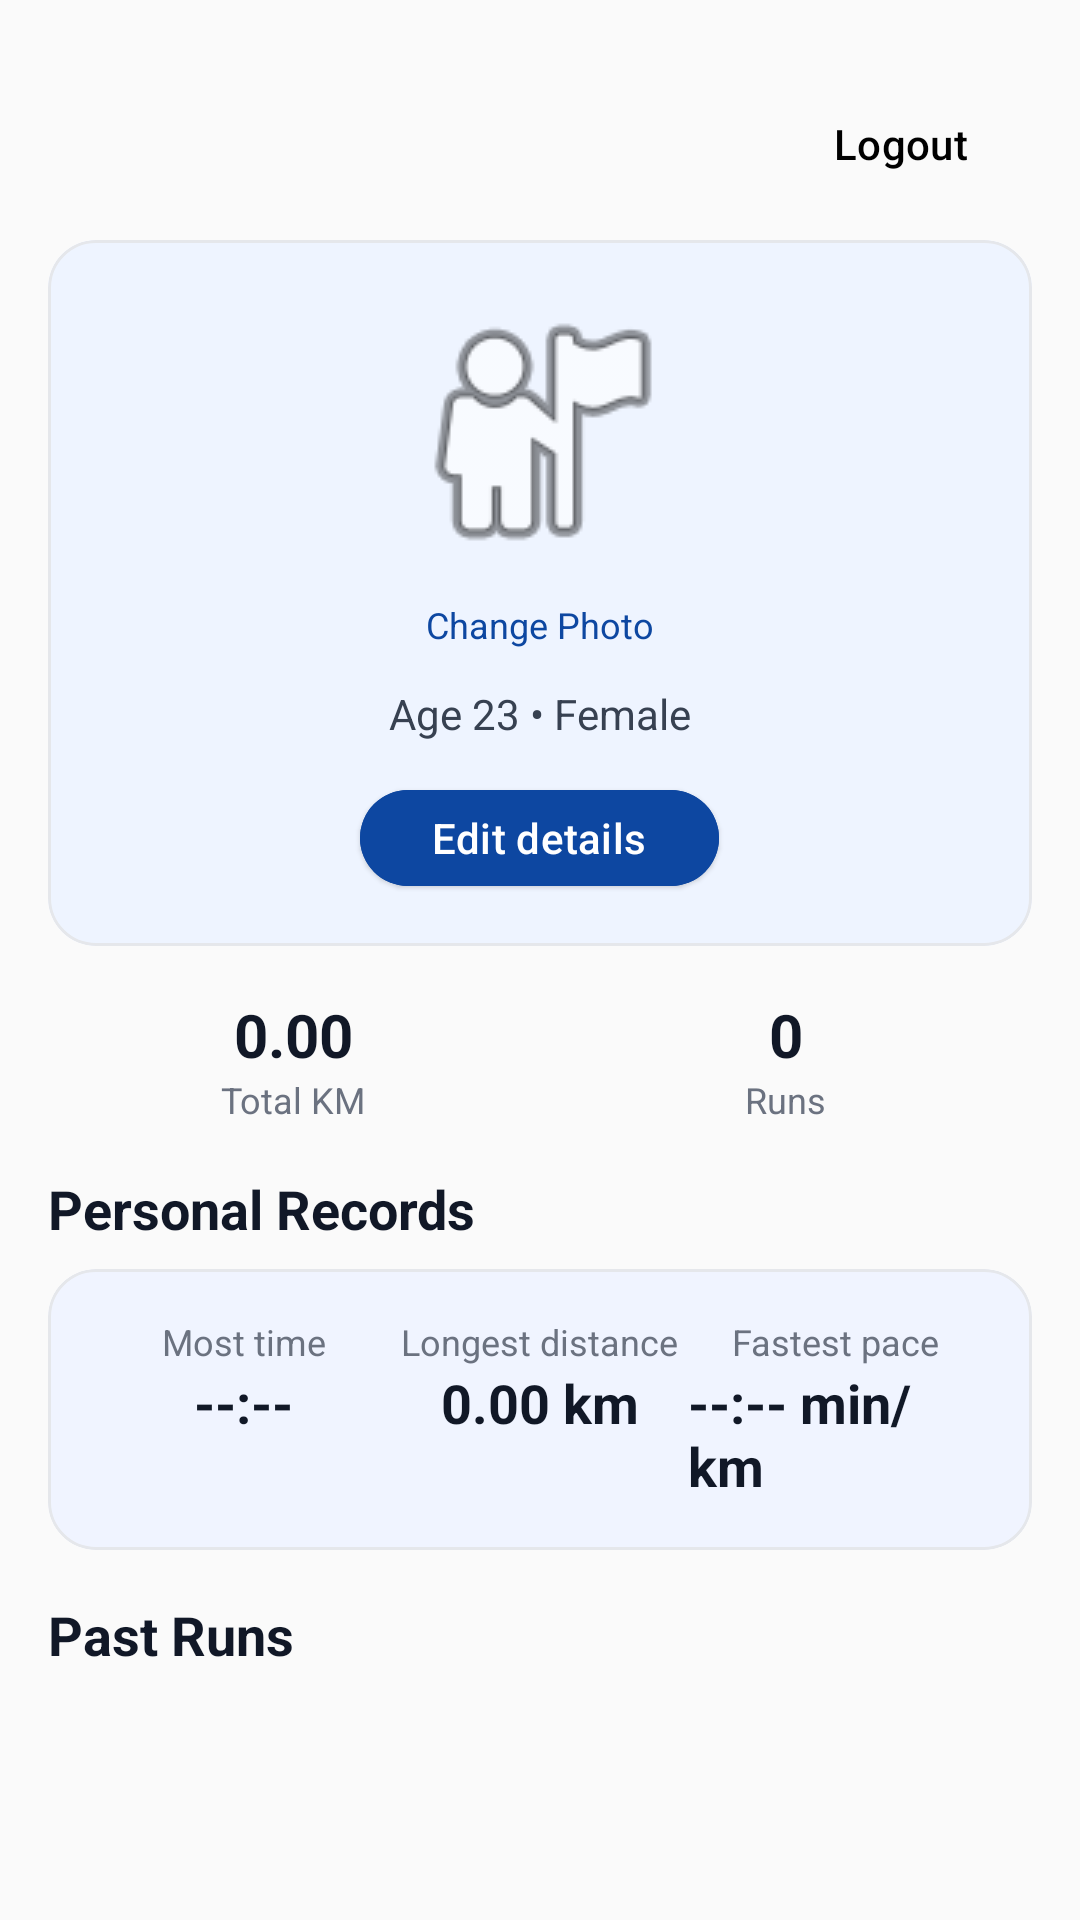

Named icons in this screenshot (1080×1920) and their bounding boxes, (x1, y1, x2, y2):
myplaces: (434, 324, 652, 540)
